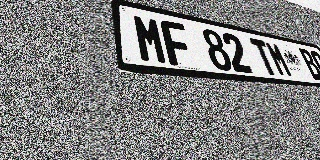2: (220, 32, 253, 73)
8: (200, 28, 234, 72)
B: (297, 48, 320, 81)
C: (309, 50, 320, 82)
F: (160, 19, 195, 68)
M: (132, 14, 169, 65), (264, 41, 294, 78)
T: (249, 38, 280, 76)
